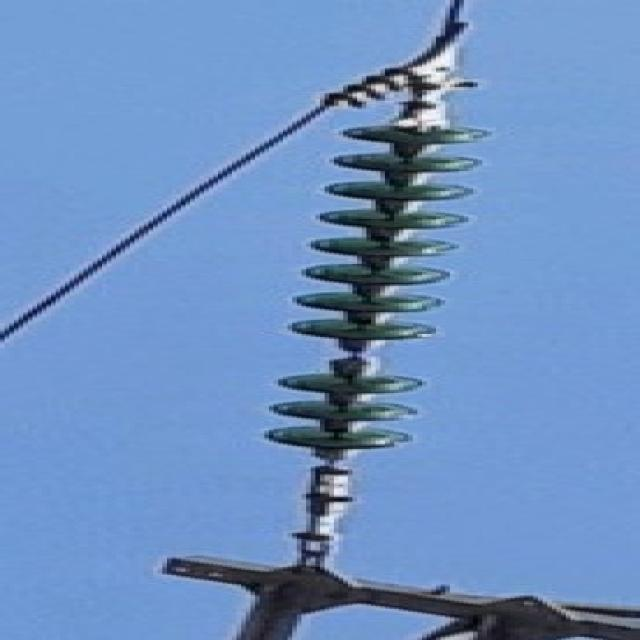正常绝缘子: (242, 75, 499, 516)
绝缘子破损: (327, 343, 382, 364)
